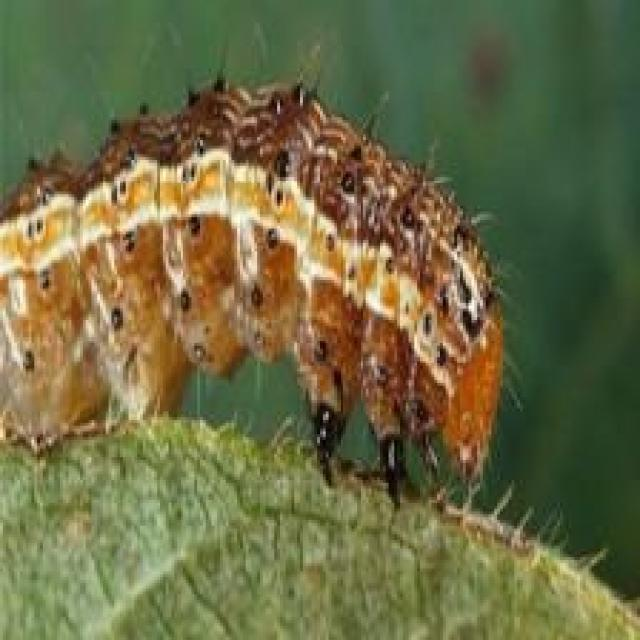Plaga: (1, 38, 530, 504)
